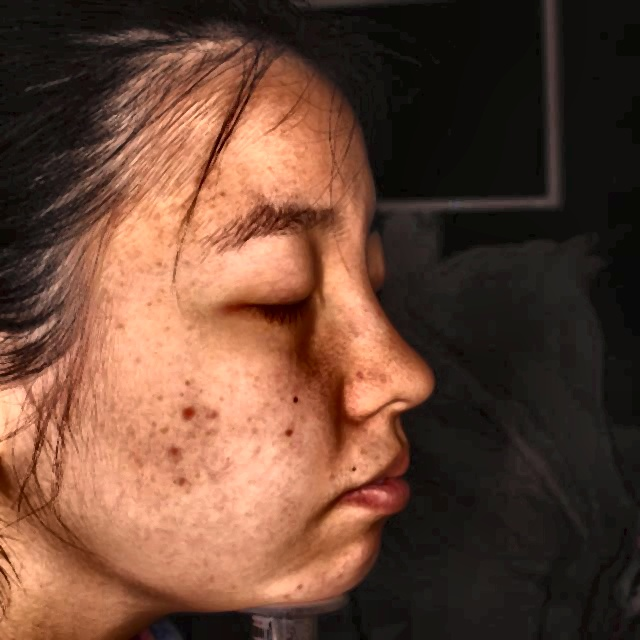comedone: (177, 403, 205, 425)
